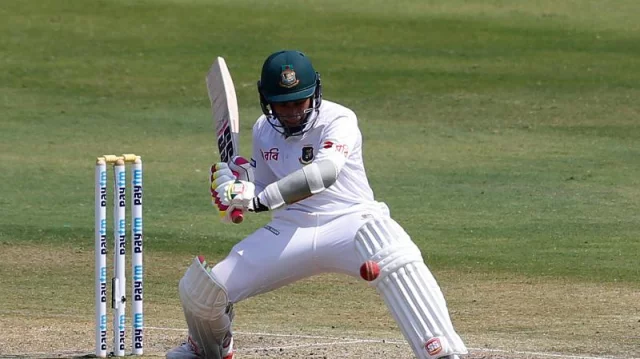Cutshot: (135, 0, 499, 359)
